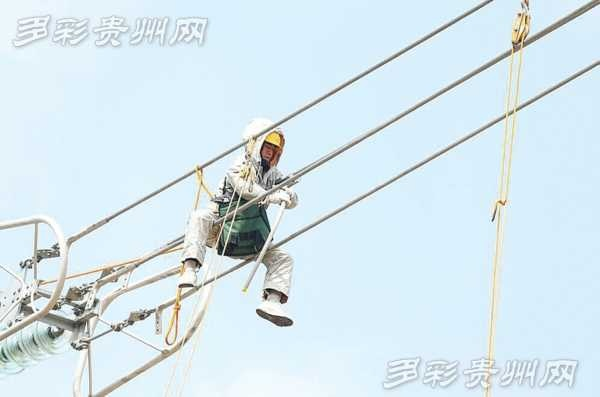yellow: (245, 124, 280, 164)
